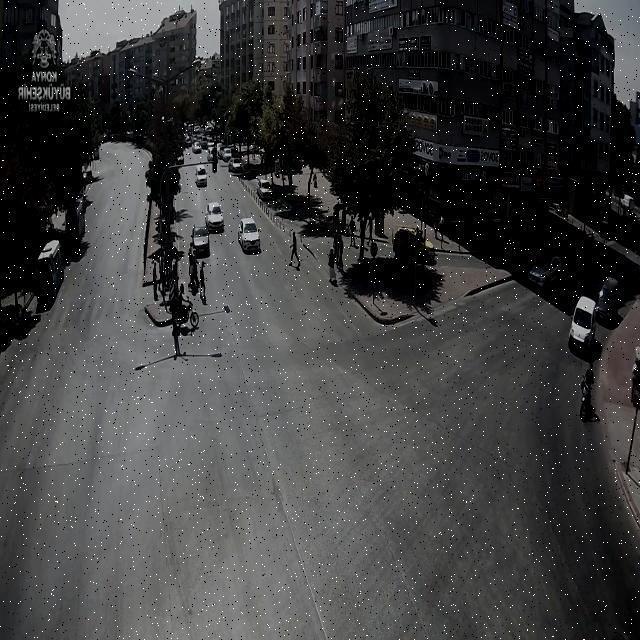Bus: (34, 239, 62, 301), (61, 192, 88, 255)
Car: (392, 227, 438, 261), (528, 254, 564, 289), (237, 218, 261, 255), (202, 202, 226, 233), (191, 222, 209, 255), (257, 180, 273, 199), (194, 167, 208, 188), (226, 157, 242, 172), (191, 140, 202, 154)
Cycle: (164, 297, 202, 327), (576, 376, 594, 420)
Van: (566, 295, 599, 352), (594, 276, 620, 323)
